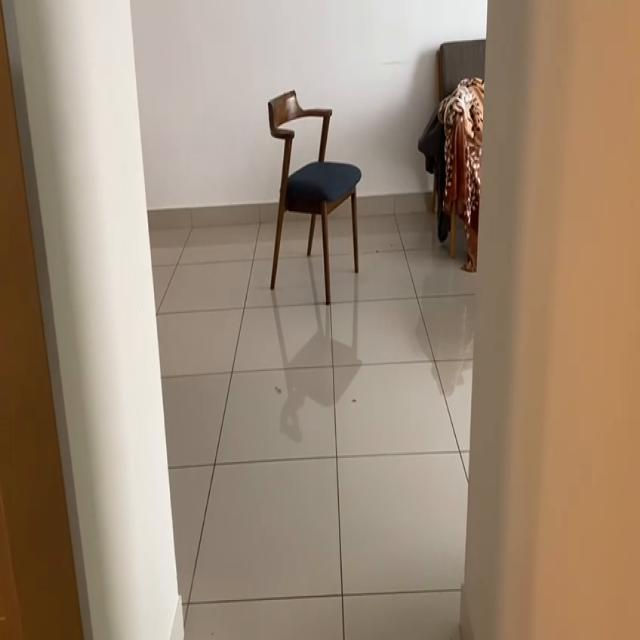Chair: (260, 82, 363, 308)
